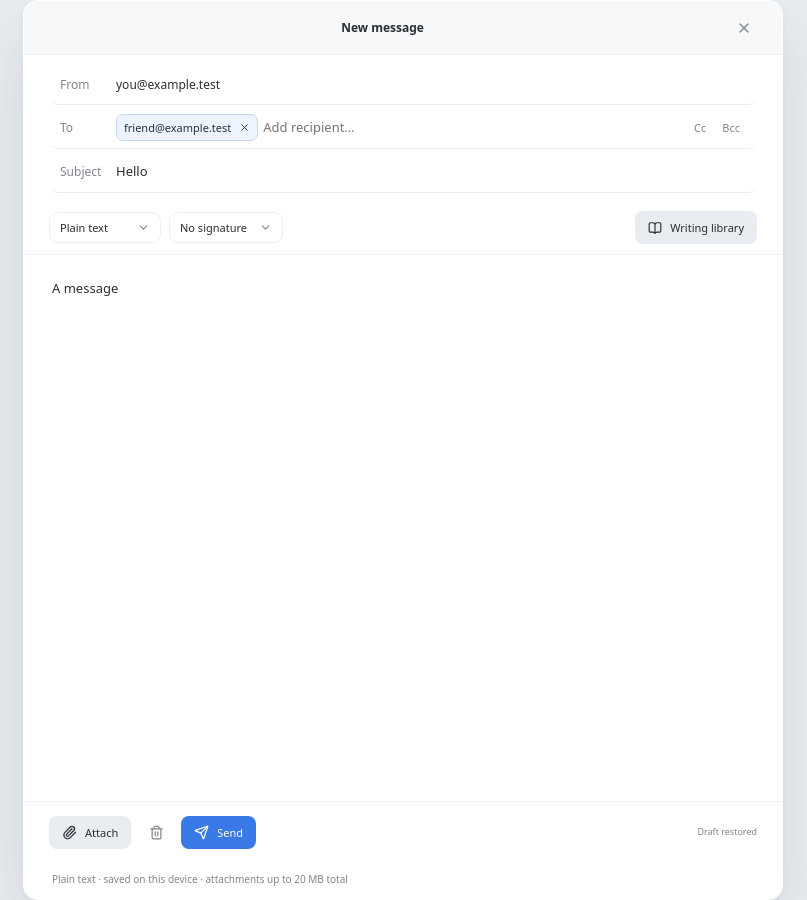
Scenario: real Outlook composer › allows undo during the delay without submitting mail
The image size is (807, 900).
(page scrolled)
Submit the form
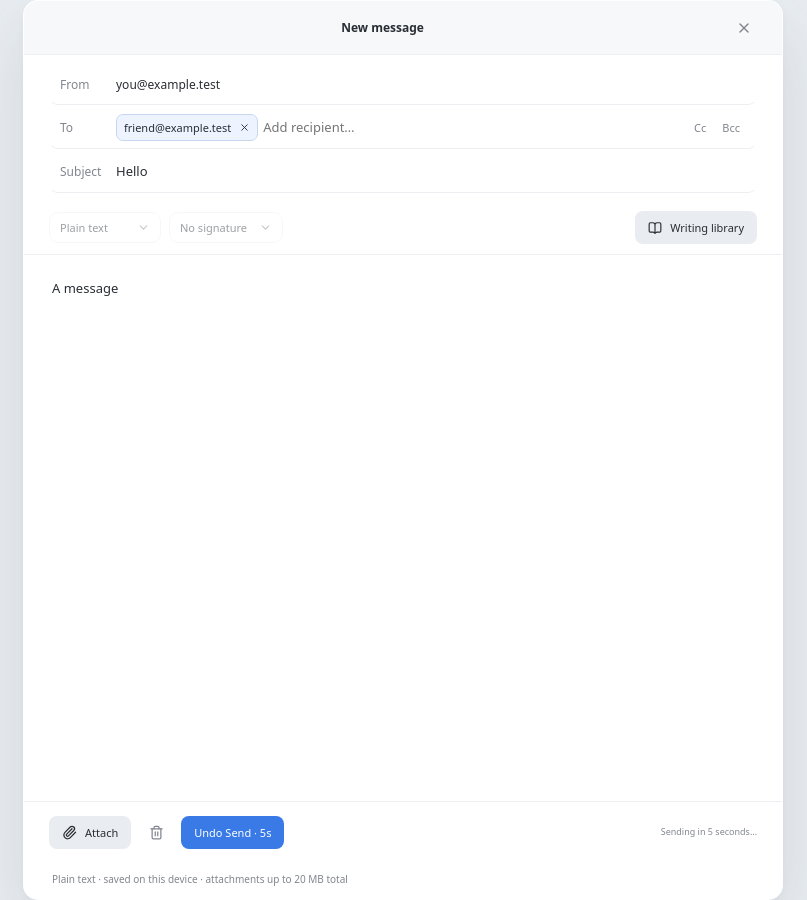
Click the button "Undo Send · 5s" at (233, 832), box x1=181 y1=816 x2=284 y2=849
Wait 6000 ms
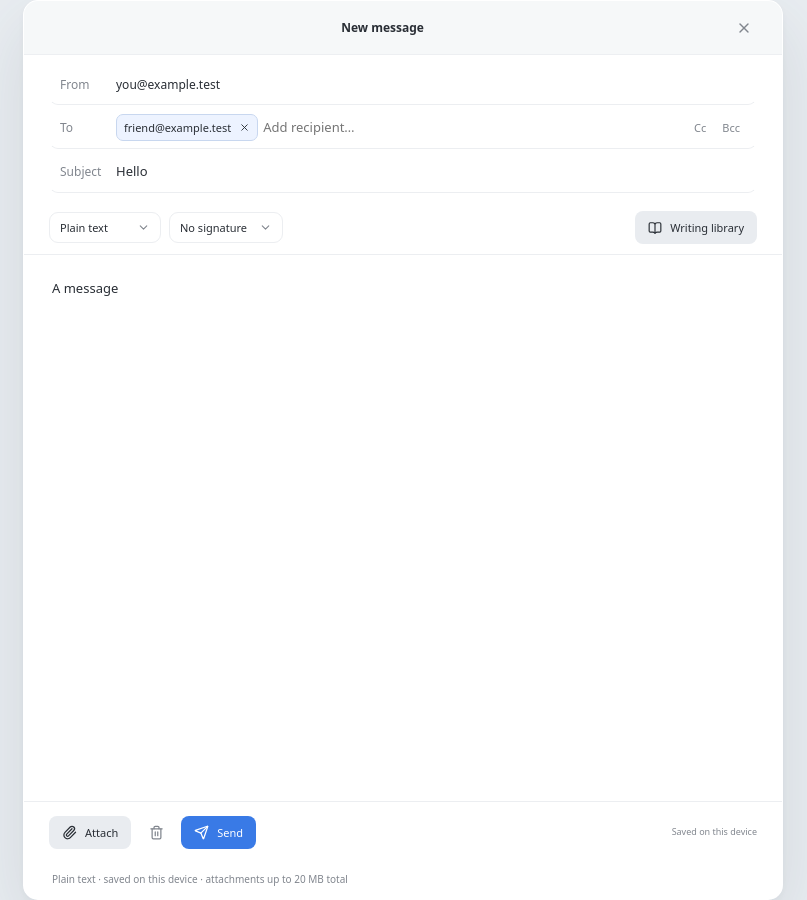
Check: the text "Undo Send" is gone
